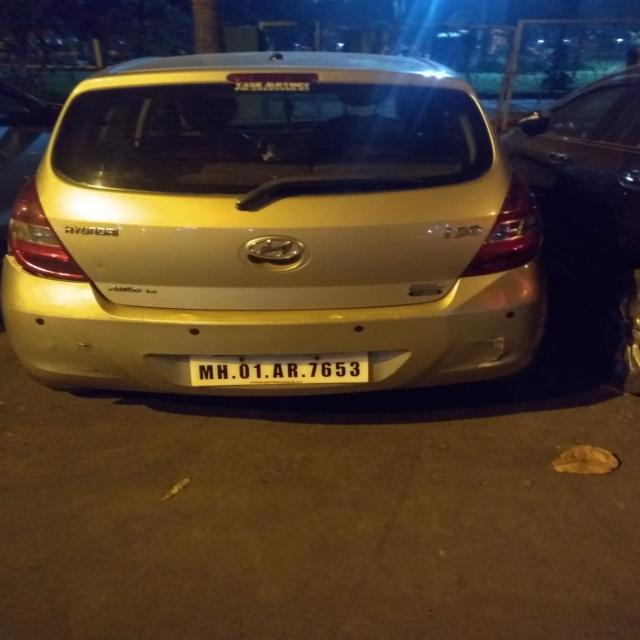Number-Plate: (193, 353, 370, 384)
